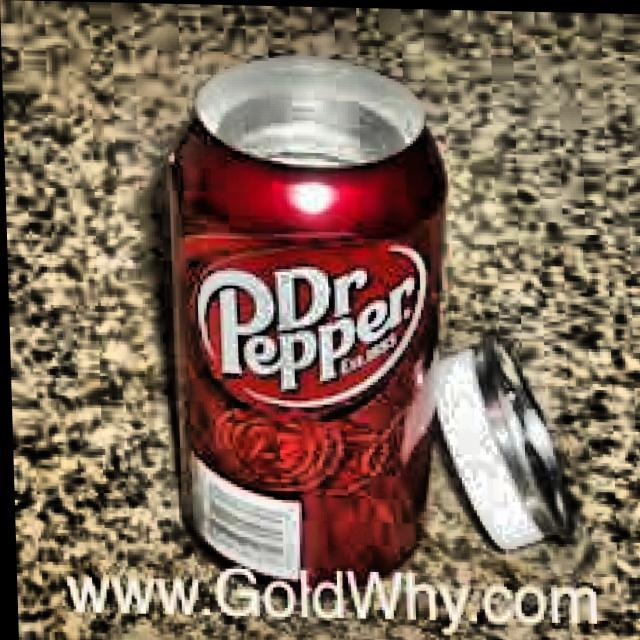can: (178, 61, 424, 574)
